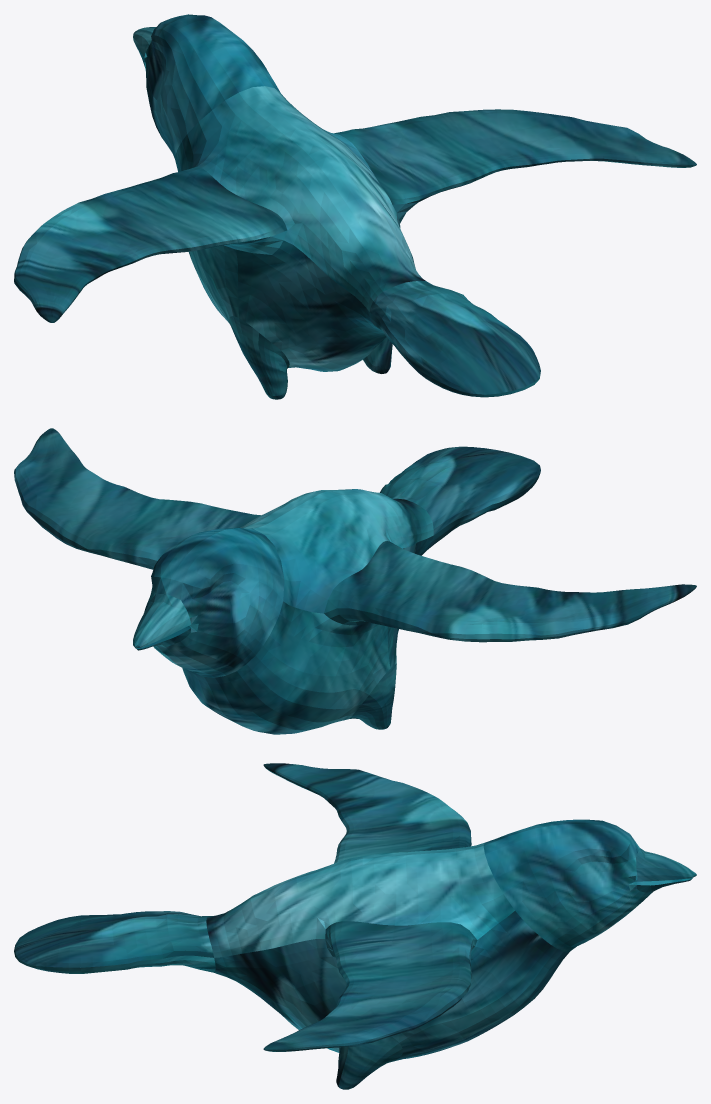
Rendered from uploads_files_3632334_achara_base2_obj.obj.
The picture shows the model from 3 angles, top to bottom: view 1: azimuth 30°, elevation 25°; view 2: azimuth 150°, elevation 25°; view 3: azimuth 270°, elevation 25°; orthographic projection. The views are drawn at different scales.
Visible parts, largest first — view 1: Group7363, Group7378, Group7528, Group7393, Group7483, Group7333, Group7498, Group7438, Group7423, Group7468, Group7558; view 2: Group7378, Group7393, Group7333, Group7528, Group7363, Group7483, Group7408, Group7498, Group7468; view 3: Group7363, Group7393, Group7528, Group7333, Group7378, Group7483, Group7573, Group7468, Group7408.
Part boxes in pixels (left/top/right/bottom): Group7363: left=187, top=86, right=425, bottom=311; Group7378: left=14, top=166, right=287, bottom=322; Group7528: left=334, top=109, right=696, bottom=204; Group7393: left=175, top=134, right=400, bottom=371; Group7483: left=369, top=281, right=540, bottom=394; Group7333: left=144, top=14, right=280, bottom=158; Group7498: left=229, top=316, right=276, bottom=399; Group7438: left=258, top=333, right=289, bottom=399; Group7423: left=49, top=230, right=286, bottom=322; Group7468: left=369, top=312, right=539, bottom=397; Group7558: left=363, top=337, right=392, bottom=373; Group7378: left=324, top=541, right=696, bottom=642; Group7393: left=182, top=535, right=433, bottom=734; Group7333: left=146, top=528, right=284, bottom=677; Group7528: left=14, top=428, right=260, bottom=569; Group7363: left=240, top=489, right=433, bottom=613; Group7483: left=380, top=446, right=540, bottom=534; Group7408: left=133, top=594, right=191, bottom=648; Group7498: left=349, top=664, right=396, bottom=729; Group7468: left=427, top=471, right=540, bottom=549; Group7363: left=206, top=842, right=514, bottom=957; Group7393: left=214, top=911, right=569, bottom=1061; Group7528: left=263, top=921, right=477, bottom=1051; Group7333: left=483, top=819, right=651, bottom=952; Group7378: left=263, top=763, right=471, bottom=863; Group7483: left=15, top=911, right=213, bottom=967; Group7573: left=339, top=1036, right=402, bottom=1089; Group7468: left=14, top=944, right=215, bottom=973; Group7408: left=636, top=848, right=696, bottom=881.
Size of the model in its own units: 328 by 129 by 331.
Materials: 1 (1 with a texture image).
